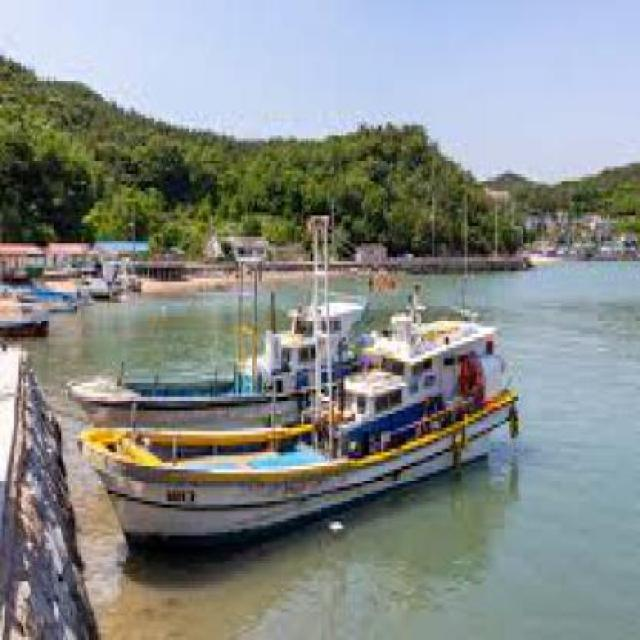fish-b: (74, 300, 534, 574)
